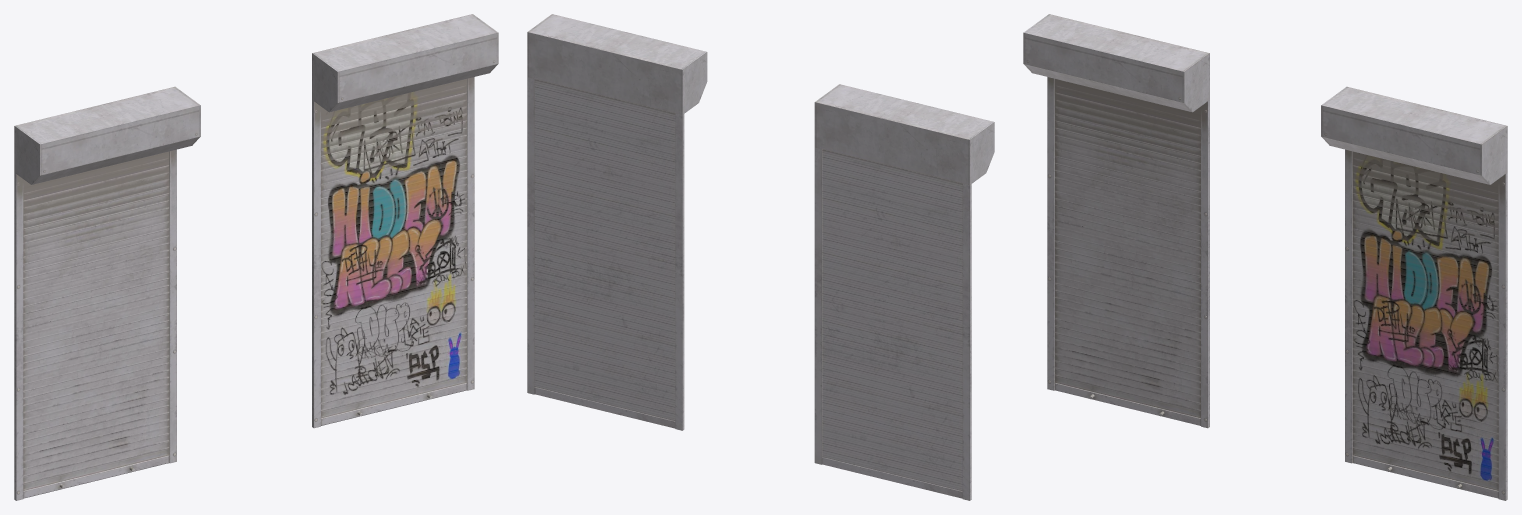
The model's file is rollershutter_door.glb.
3 views of the same model, side by side, from view 1: azimuth 30°, elevation 25°; view 2: azimuth 150°, elevation 25°; view 3: azimuth 330°, elevation 25° (orthographic). The views are drawn at different scales.
Parts seen in each view (by area): view 1: rollershutter_door, rollershutter_door_graffiti; view 2: rollershutter_door, rollershutter_door_graffiti; view 3: rollershutter_door_graffiti, rollershutter_door.
Boxes of the visible parts, x1=… form: rollershutter_door: x1=14, y1=86, x2=200, y2=500; rollershutter_door_graffiti: x1=312, y1=14, x2=498, y2=428; rollershutter_door: x1=814, y1=84, x2=994, y2=500; rollershutter_door_graffiti: x1=527, y1=14, x2=707, y2=430; rollershutter_door_graffiti: x1=1321, y1=86, x2=1507, y2=500; rollershutter_door: x1=1023, y1=14, x2=1209, y2=428.
Bounding box in the file's own units: 3.08 × 2.4 × 0.3.
2 materials, 2 textured.
